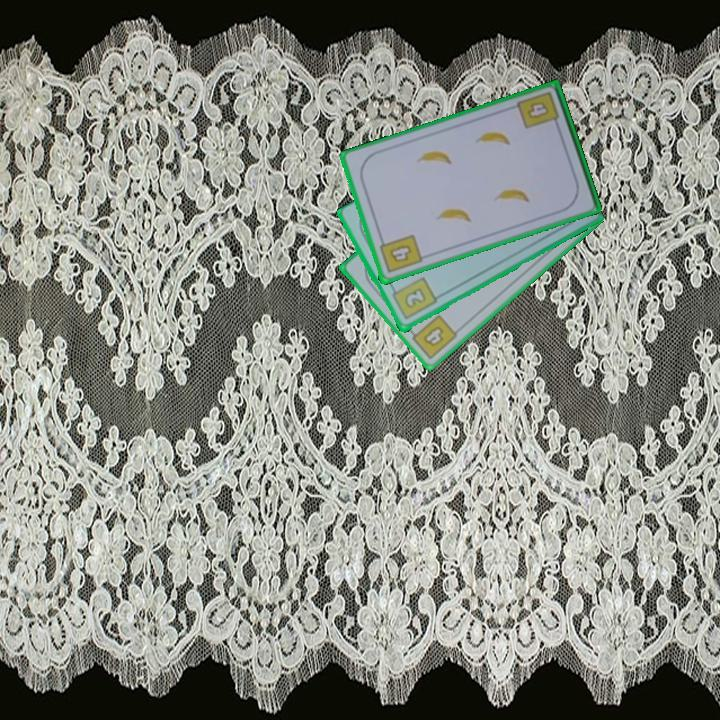2b: (388, 274, 440, 323)
4b: (405, 311, 460, 362), (376, 231, 425, 276), (523, 99, 552, 122)
